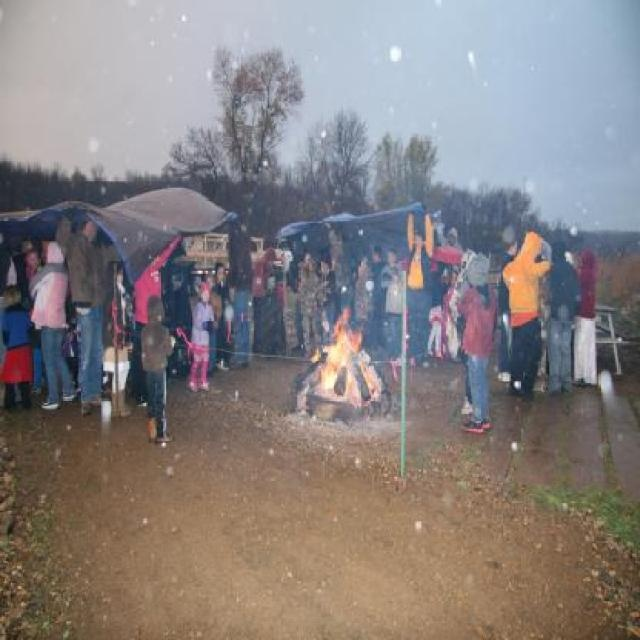obstacle: (0, 202, 595, 440), (509, 219, 558, 407)
